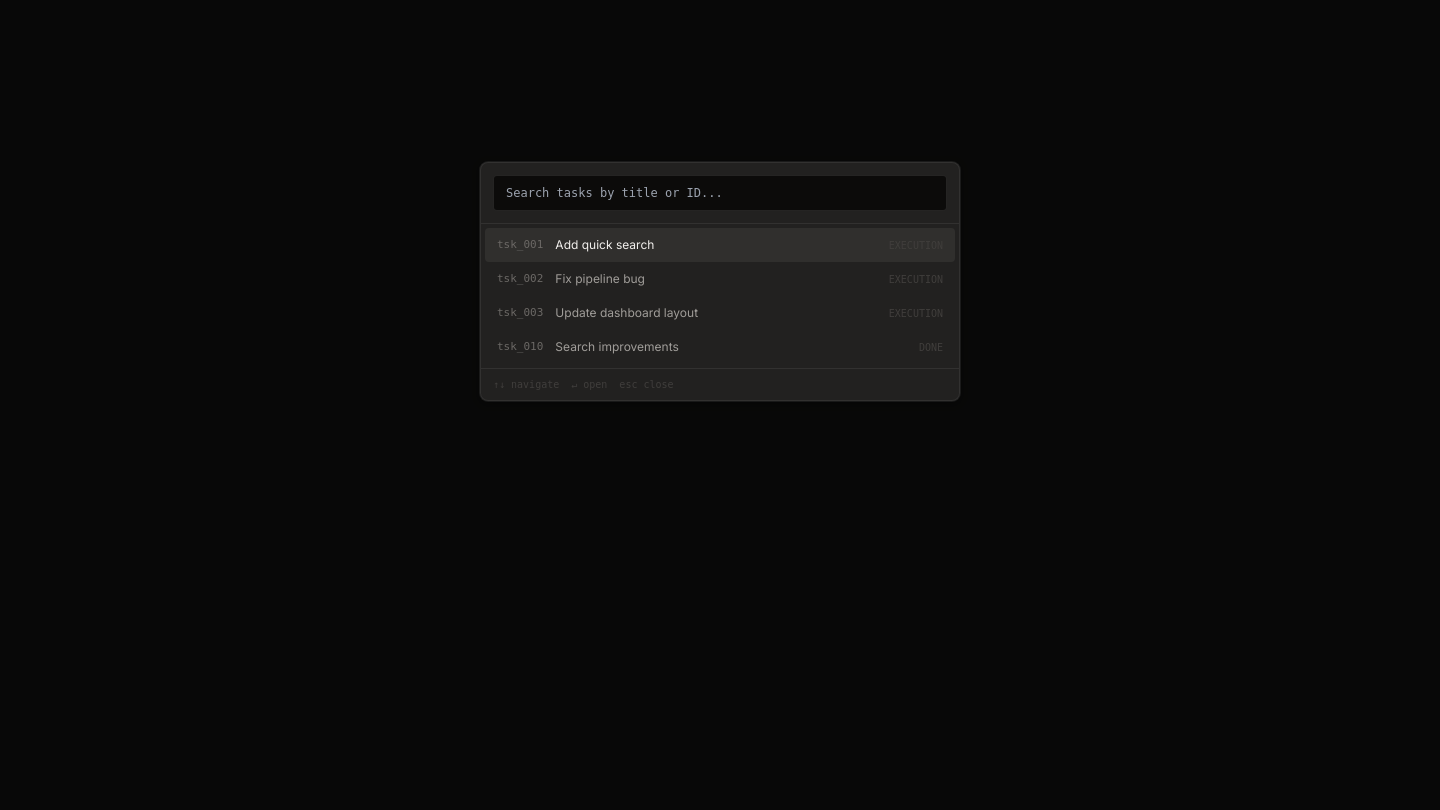
Test case: QuickSearch › includes DONE tasks in search results
Step 1. Type "improvements" into the field with placeholder "Search tasks by title or ID..." → point(720, 193), box [493, 175, 947, 211]
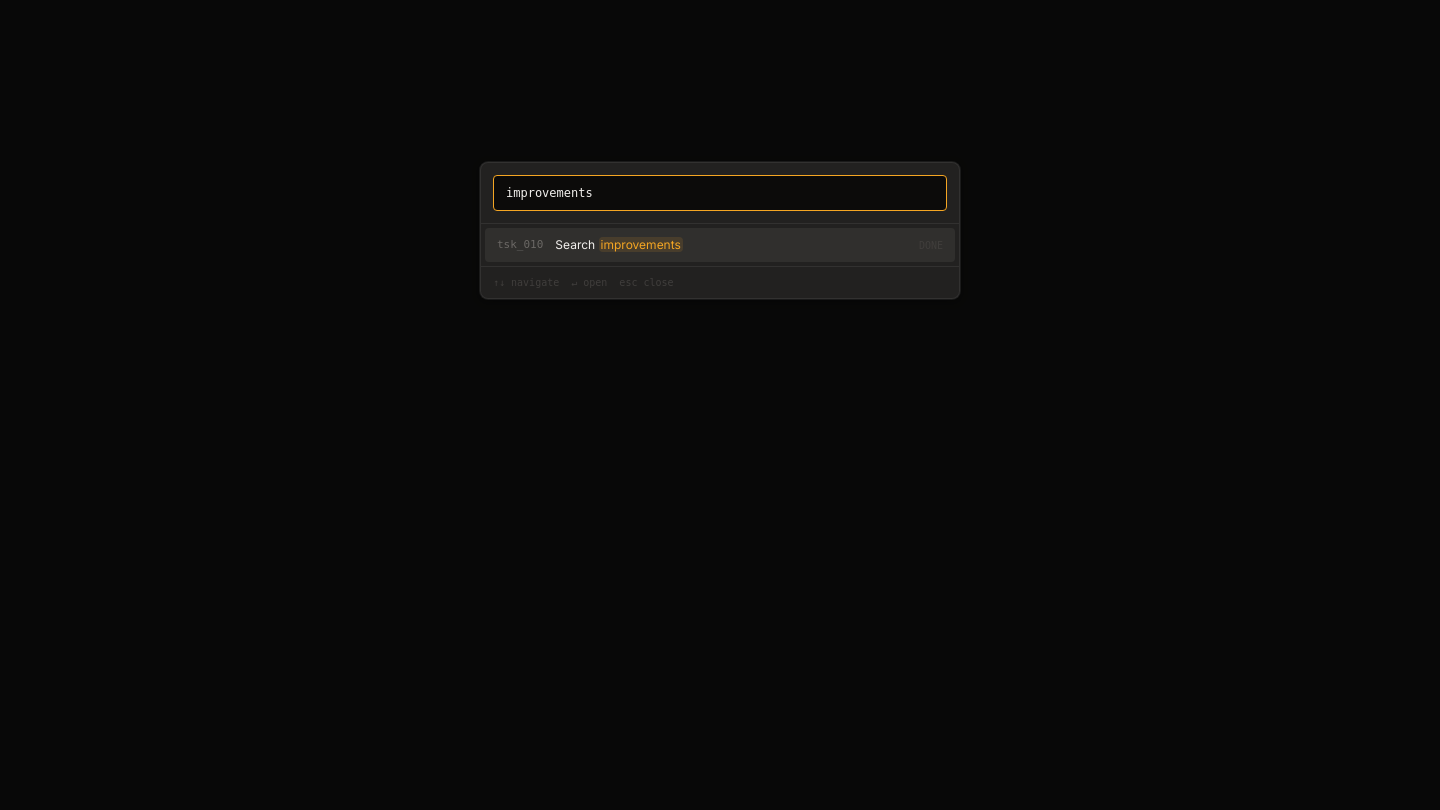
Check: the text "tsk_010" is shown, box [497, 237, 543, 253]
Check: the number of buttons with test id "quick-search-result" is 1, box [485, 228, 955, 262]
